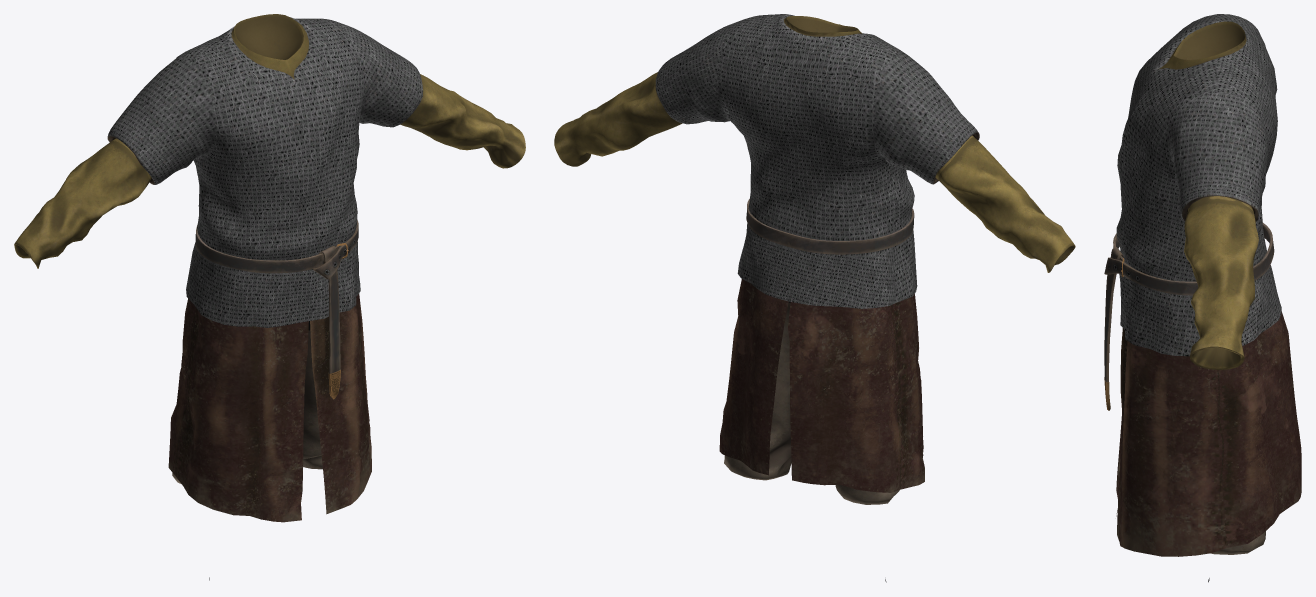
File: cts_rohan_armor333.fbx
The picture shows the model from 3 angles, left to right: view 1: azimuth 30°, elevation 25°; view 2: azimuth 150°, elevation 25°; view 3: azimuth 270°, elevation 25°; orthographic projection. The views are drawn at different scales.
Parts seen in each view (by area): view 1: cts_rohan_armor333; view 2: cts_rohan_armor333; view 3: cts_rohan_armor333.
Boxes of the visible parts, <box> form: cts_rohan_armor333: <box>14,14,525,580</box>; cts_rohan_armor333: <box>554,14,1075,582</box>; cts_rohan_armor333: <box>1104,14,1301,582</box>.
Size of the model in its own units: 1.36 by 0.4323 by 1.4.
1 material, 1 textured.
